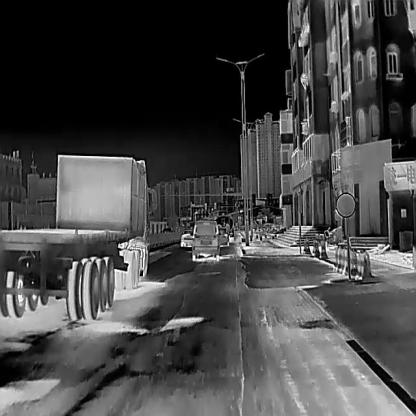car: (192, 219, 219, 261), (180, 229, 192, 247), (218, 228, 229, 246)
truck: (0, 154, 156, 320)
